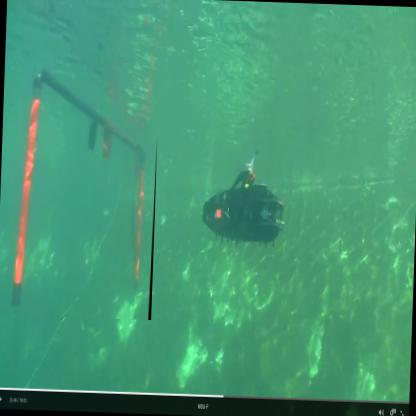gate: (11, 63, 162, 322)
